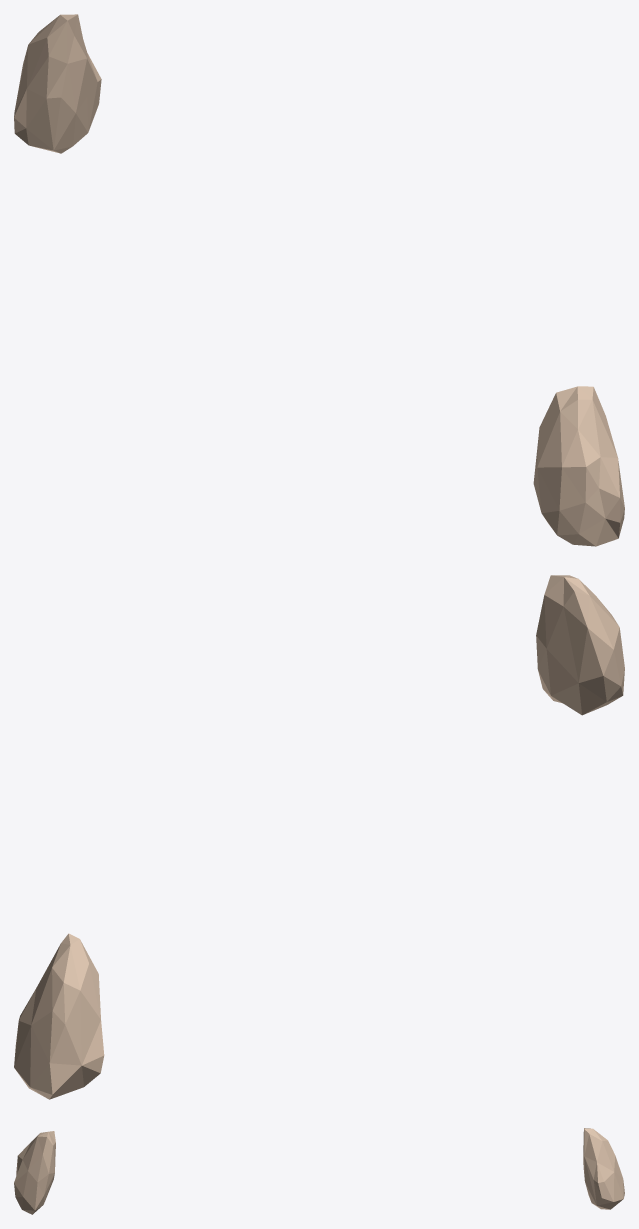
3 views of the same model, one above another, from view 1: azimuth 30°, elevation 25°; view 2: azimuth 150°, elevation 25°; view 3: azimuth 270°, elevation 25° (orthographic). The views are drawn at different scales.
Visible parts, largest first — view 1: 350.obj; view 2: 350.obj; view 3: 350.obj.
Part boxes in pixels (x1=…): 350.obj: x1=14, y1=14, x2=624, y2=546; 350.obj: x1=14, y1=575, x2=624, y2=1099; 350.obj: x1=14, y1=1128, x2=624, y2=1214.
Bounding box in the file's own units: 184 × 302 × 2076.
